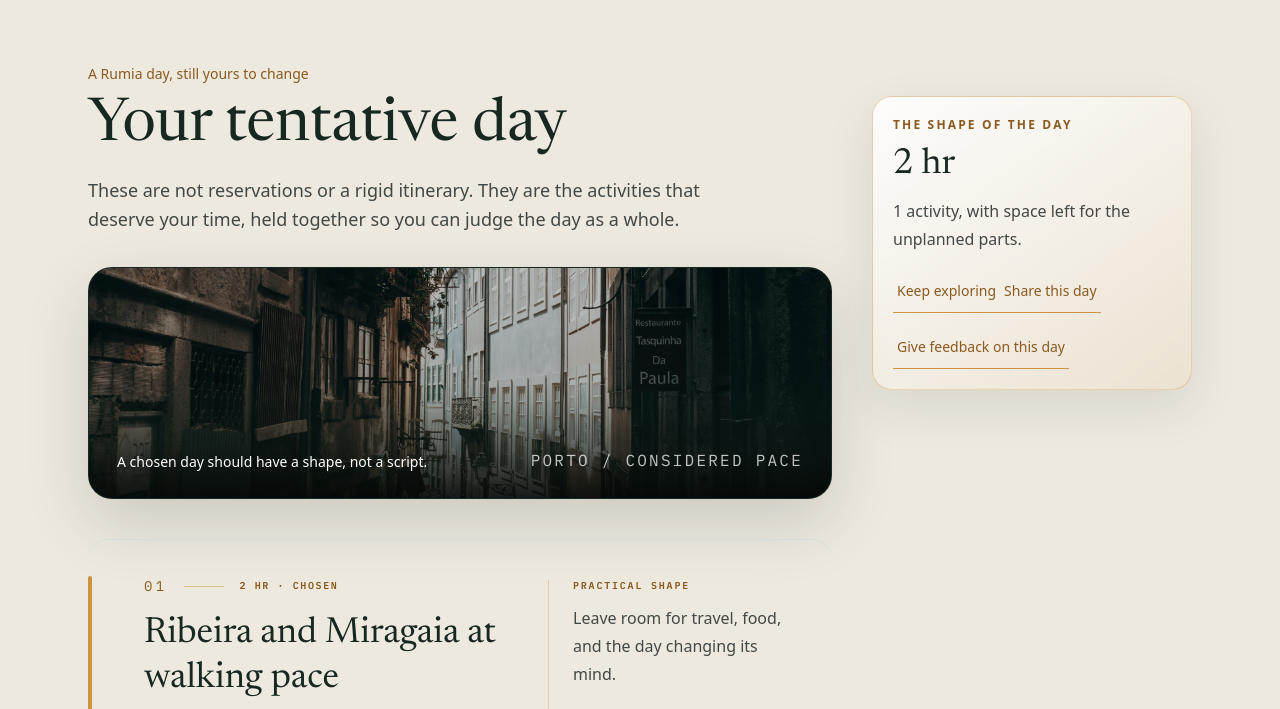
Test: ActivityWorkspace › explains when sharing is unavailable or fails
Click the button "Share this day" at x=1050, y=291, box [1000,269,1101,313]
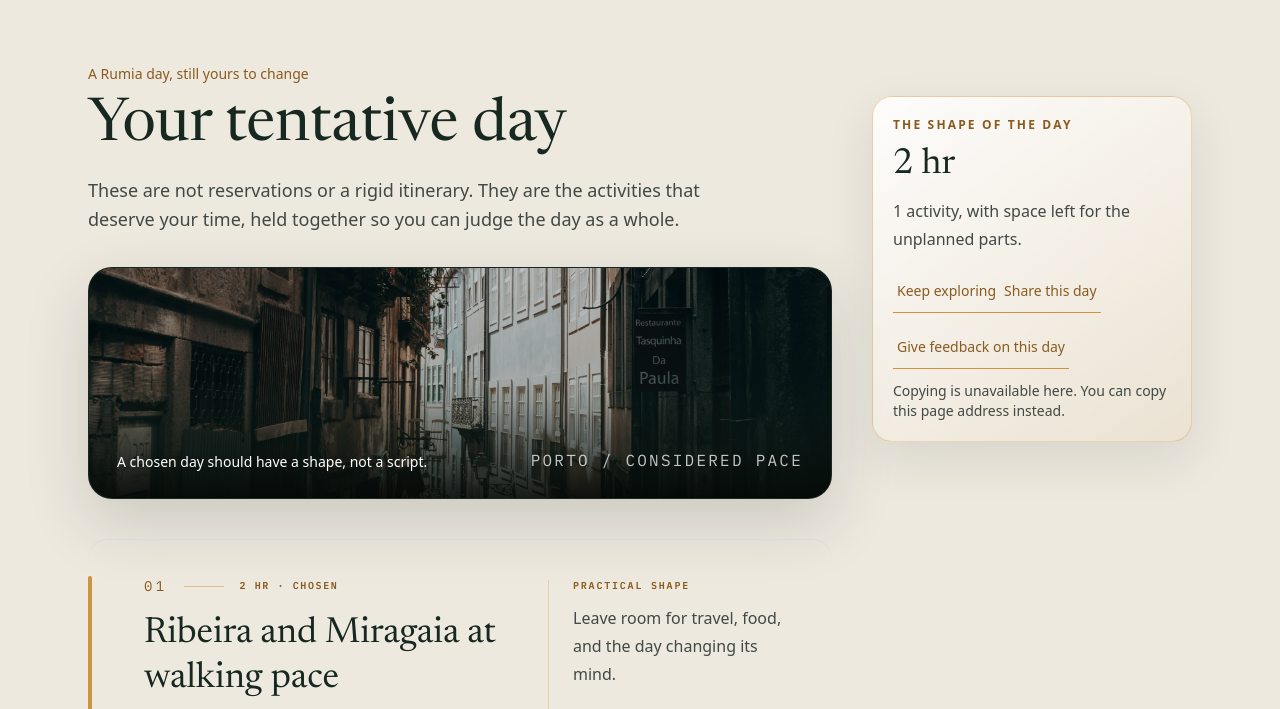
Check: the message shows "Copying is unavailable", box [893,381,1166,420]
Click the button "Share this day" at x=1050, y=291, box [1000,269,1101,313]
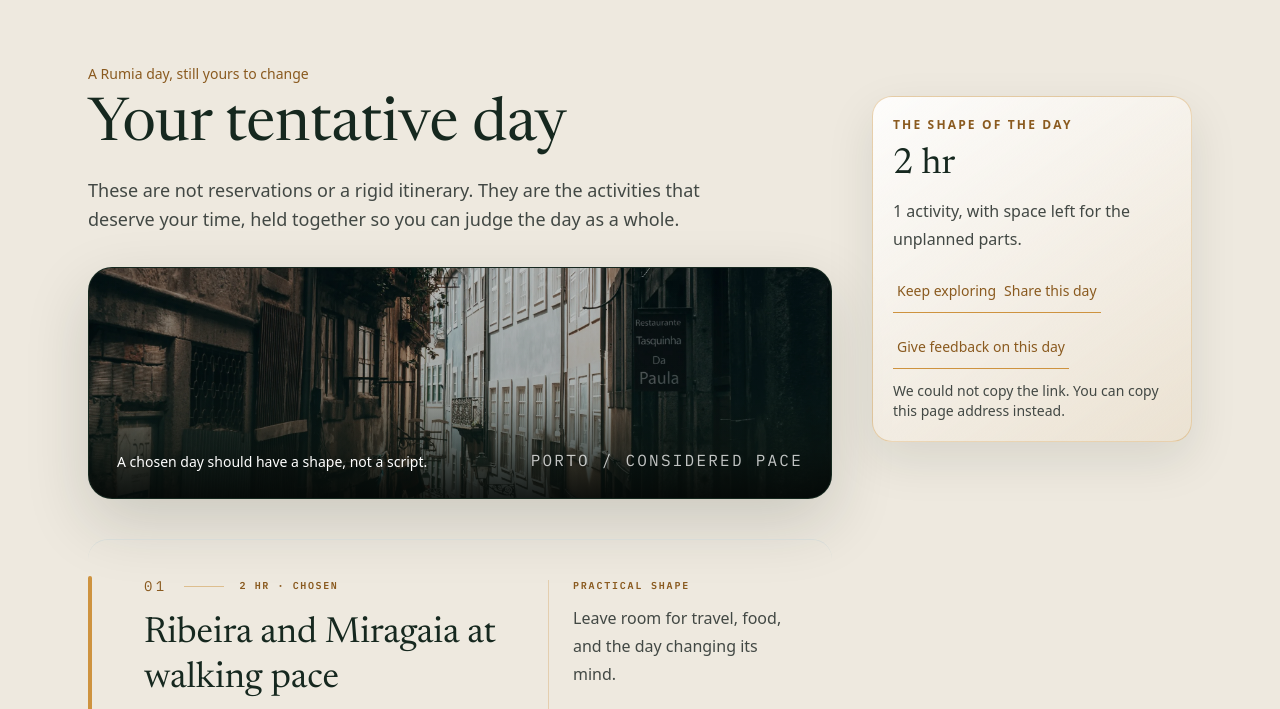
Check: the message shows "could not copy", box [893,381,1159,420]
